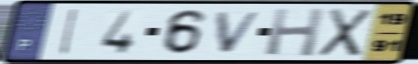4: (98, 8, 139, 56)
6: (161, 8, 208, 56)
H: (263, 6, 327, 58)
I: (57, 7, 82, 56)
V: (215, 10, 267, 55)
X: (315, 6, 375, 58)
